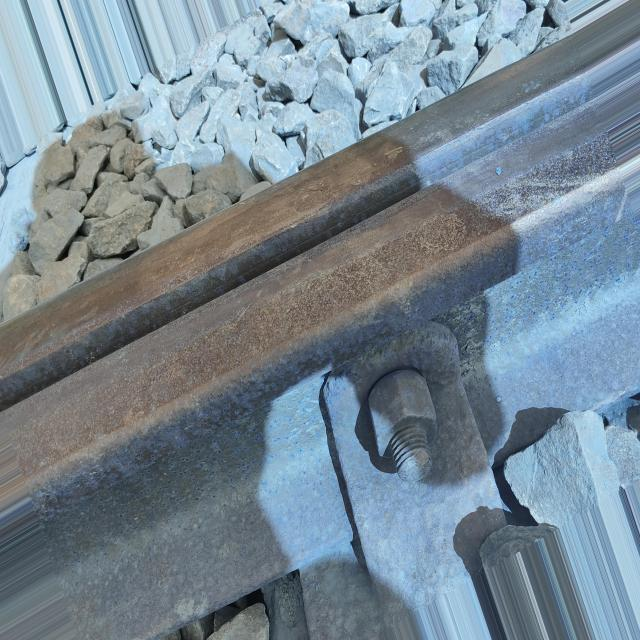Good Fasteners: (319, 322, 500, 618)
